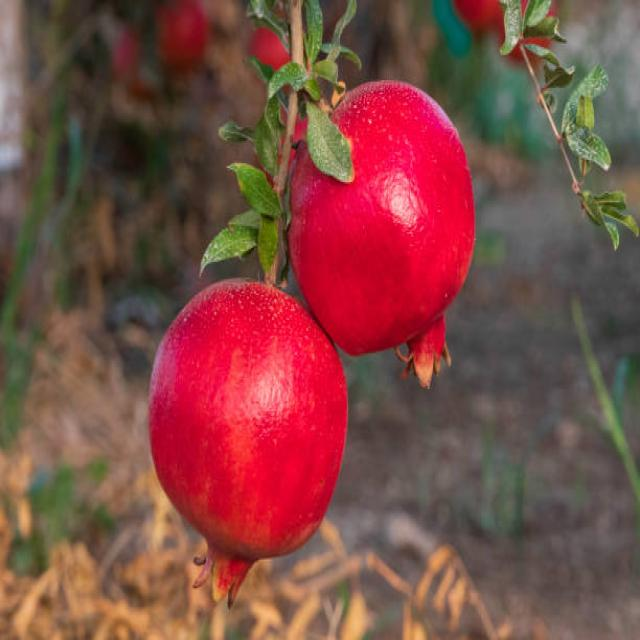Ripe: (146, 280, 351, 612), (282, 75, 476, 394)
